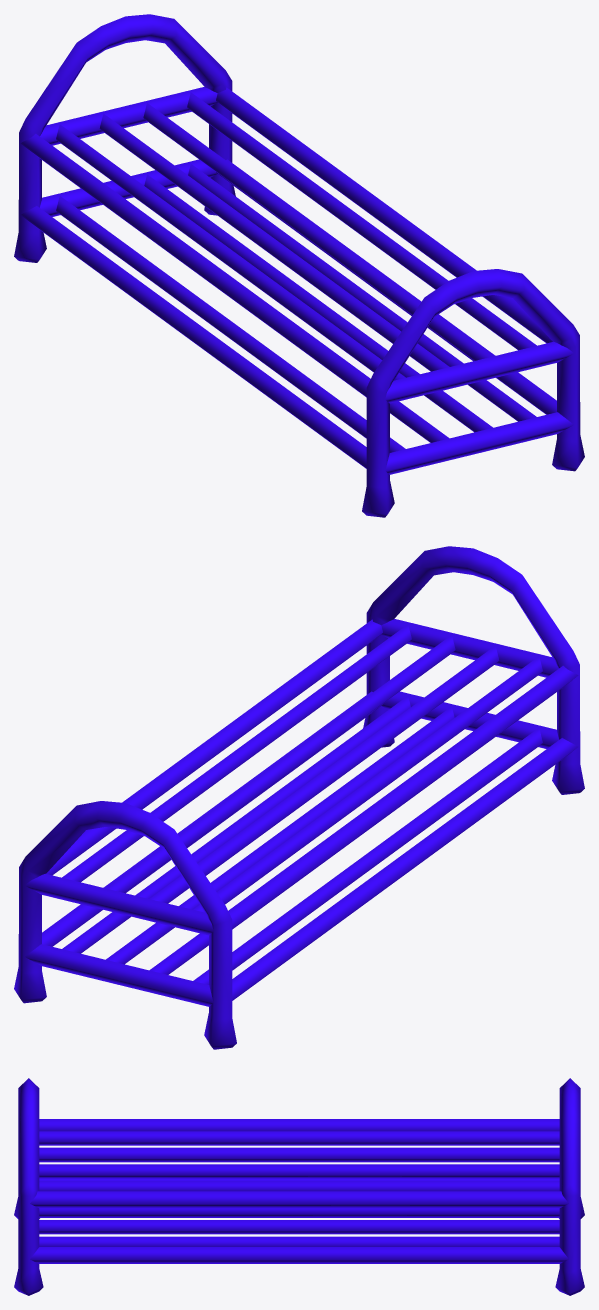
File: office_pack_shoeRack_1_meshCollider.fbx
The picture shows the model from 3 angles, top to bottom: view 1: azimuth 30°, elevation 25°; view 2: azimuth 150°, elevation 25°; view 3: azimuth 270°, elevation 25°; orthographic projection. The views are drawn at different scales.
Visible parts, largest first — view 1: office_pack_shoeRack_1_meshCollider; view 2: office_pack_shoeRack_1_meshCollider; view 3: office_pack_shoeRack_1_meshCollider.
Part boxes in pixels (<box>): office_pack_shoeRack_1_meshCollider: <box>14,14,584,517</box>; office_pack_shoeRack_1_meshCollider: <box>14,546,584,1049</box>; office_pack_shoeRack_1_meshCollider: <box>14,1078,584,1295</box>.
Size of the model in its own units: 36.1 by 33.87 by 103.
